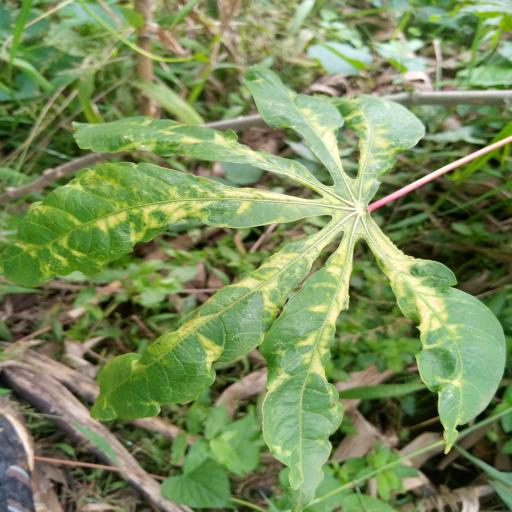Cassava_Mosaic: (0, 76, 504, 468)
